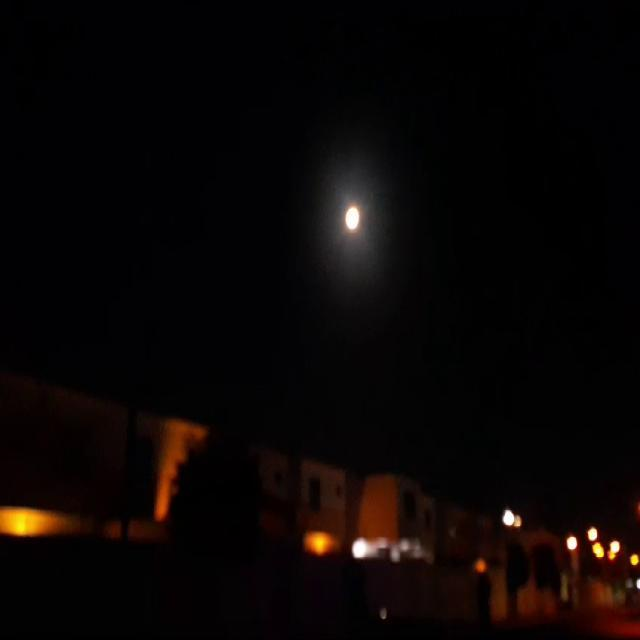moon: (326, 199, 349, 233)
